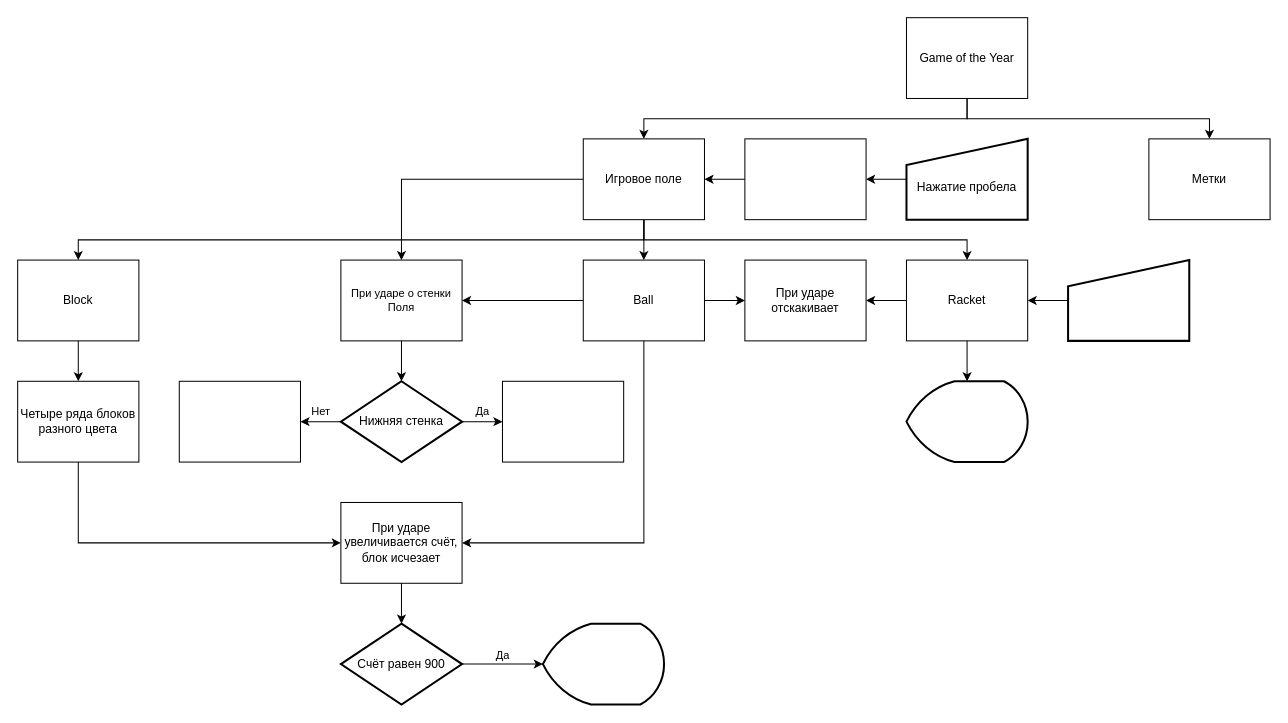
Some shapes in this 1288 by 723 pixel diagram are drawn without their labels. Each missing label, with the centre of its shape:
Движение влево-вправо: the point at 966,421
Запуск/Остановка Игры: the point at 805,179
Мяч отскакивает: the point at 239,421
Победа: the point at 603,663
Появляется новый мяч: the point at 562,421
Управление курсором: the point at 1128,300
